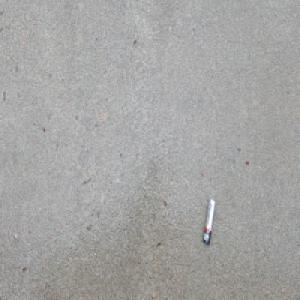Battery: (201, 196, 215, 246)
